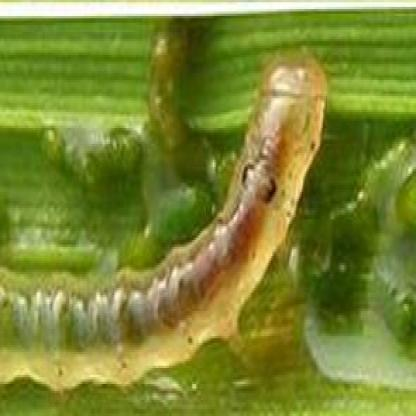leaf-folder: (0, 0, 336, 389)
